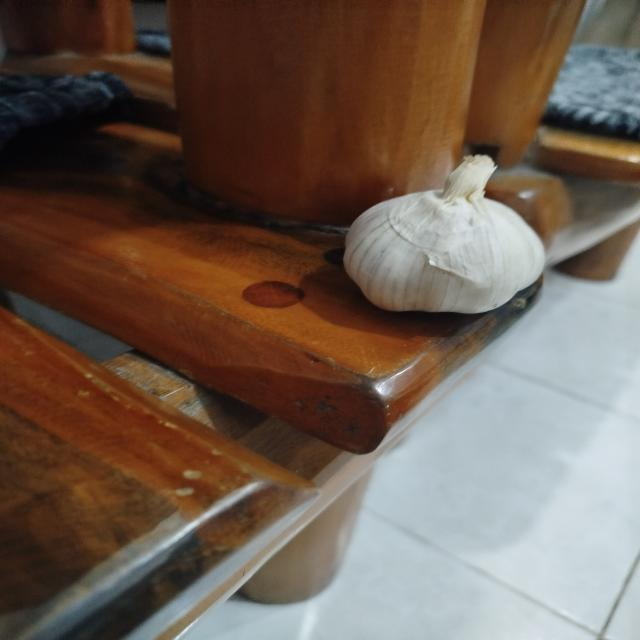garlic: (342, 153, 546, 315)
